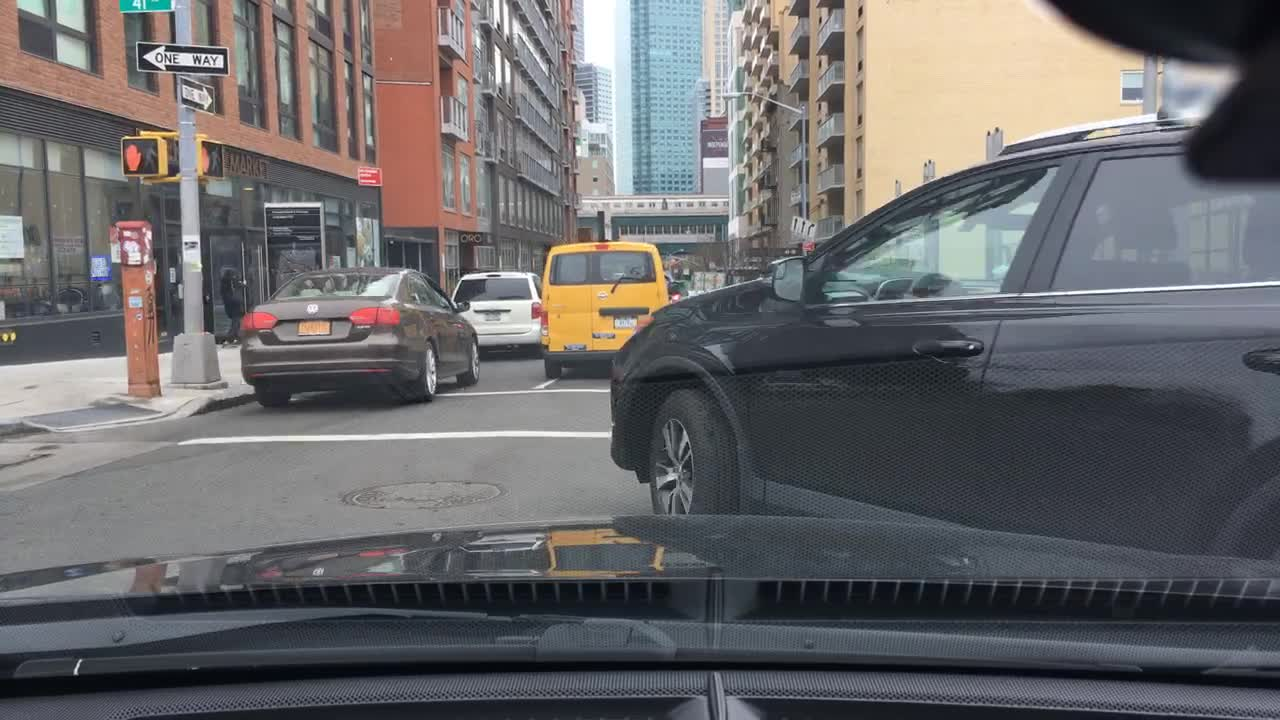car: (605, 109, 1279, 560), (236, 263, 483, 411), (538, 237, 669, 381), (447, 269, 544, 358), (667, 273, 689, 303)
person: (218, 267, 251, 341)
traffic light: (121, 138, 166, 176), (199, 139, 231, 179)
traffic sign: (136, 42, 228, 72), (177, 78, 217, 115), (117, 1, 176, 15), (788, 214, 818, 240), (356, 166, 382, 188)
